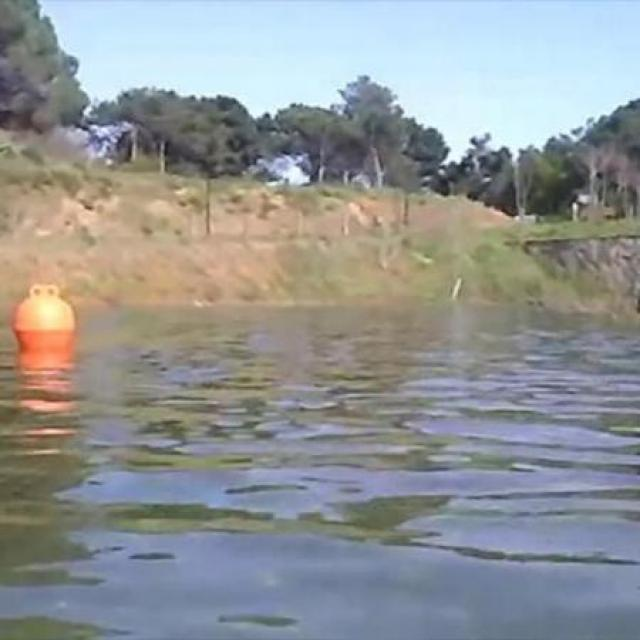buoy: (14, 282, 76, 354)
